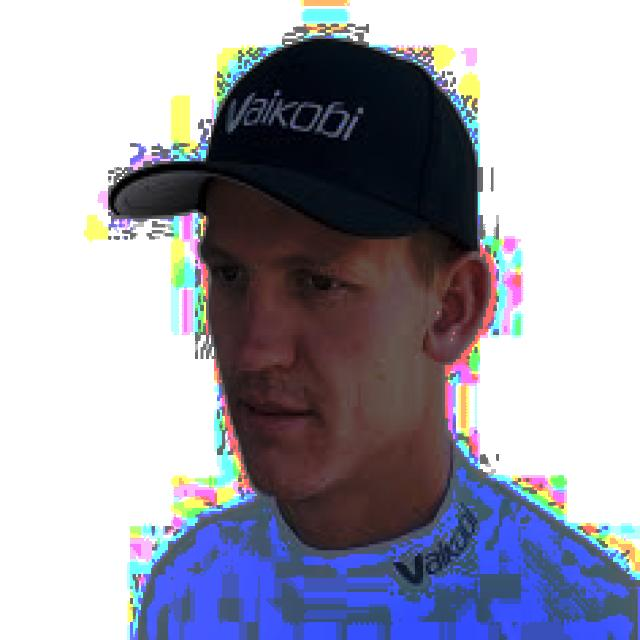TOPI: (103, 27, 491, 242)
